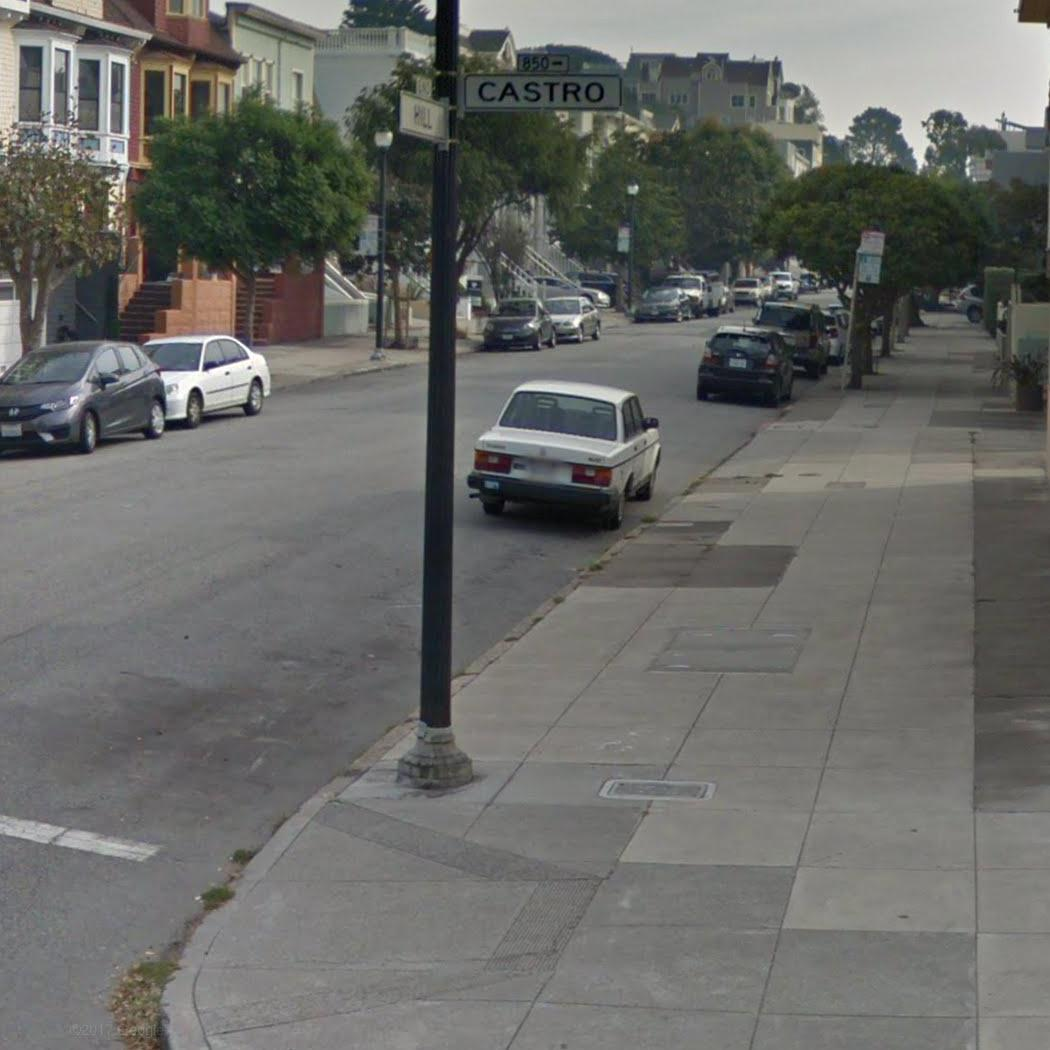2 Hour Parking: (856, 253, 883, 286)
No Parking: (859, 228, 886, 257)
